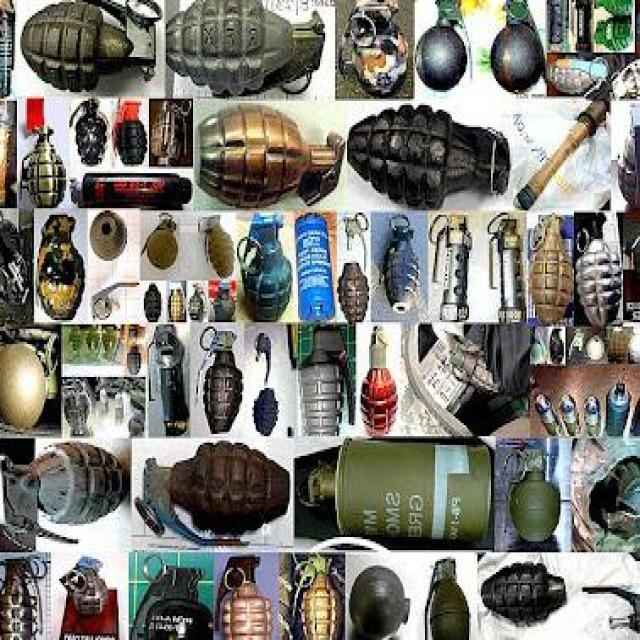grenade: (297, 442, 492, 551), (347, 104, 511, 209), (192, 104, 345, 214), (137, 441, 291, 549), (171, 1, 325, 102), (20, 1, 164, 100), (3, 442, 130, 554), (572, 437, 639, 558), (130, 549, 216, 639), (340, 1, 411, 100), (299, 326, 357, 438), (3, 326, 59, 431), (240, 214, 296, 317), (196, 326, 247, 438), (416, 1, 475, 95), (507, 446, 563, 544), (490, 1, 547, 97), (480, 562, 567, 623), (214, 555, 277, 639), (37, 211, 84, 321), (529, 214, 575, 323), (148, 324, 191, 440), (348, 564, 413, 639), (577, 227, 624, 330), (430, 214, 474, 322), (291, 555, 347, 639), (378, 214, 421, 323), (71, 172, 192, 209), (362, 323, 401, 437), (487, 211, 527, 322), (424, 555, 472, 639), (296, 216, 335, 319), (23, 122, 69, 209), (3, 555, 48, 639), (338, 214, 372, 323), (67, 556, 111, 624), (3, 216, 32, 312), (150, 100, 192, 166), (70, 100, 111, 166), (453, 345, 502, 400), (548, 56, 612, 97), (616, 100, 639, 212), (144, 211, 181, 275), (199, 218, 238, 275), (91, 209, 131, 262), (113, 115, 150, 170), (65, 378, 94, 437), (596, 14, 635, 54), (3, 1, 18, 97), (254, 389, 281, 441), (611, 54, 640, 102), (607, 383, 632, 437), (570, 1, 595, 54), (578, 102, 608, 140), (213, 279, 240, 321), (536, 394, 562, 436), (549, 1, 570, 45), (560, 396, 581, 438), (143, 282, 164, 323), (597, 1, 636, 23), (127, 328, 144, 378), (189, 277, 207, 323), (629, 212, 639, 293), (169, 286, 187, 328), (585, 396, 601, 437), (611, 330, 629, 364), (568, 330, 585, 365), (533, 328, 548, 363), (587, 334, 605, 361), (550, 330, 564, 363), (631, 383, 639, 440), (3, 102, 18, 130), (633, 1, 640, 60), (629, 328, 639, 367), (116, 394, 124, 428), (101, 389, 109, 417)
